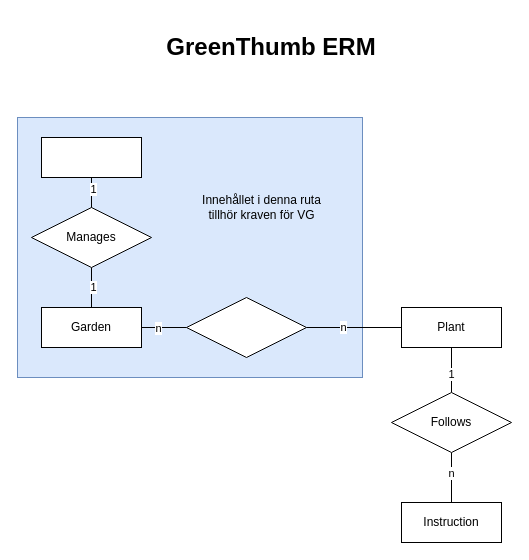
Some shapes in this 529 by 560 pixel diagram are drawn without their labels. The centre of each missing label's shape, as x and y in pixels:
"Cultivates" belongs at pixel 246 327.
"User" belongs at pixel 91 157.
